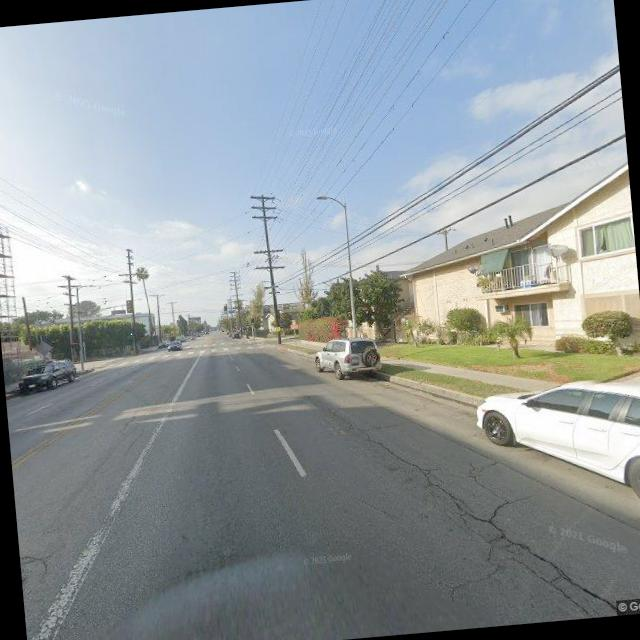pothole: (316, 372, 600, 622)
